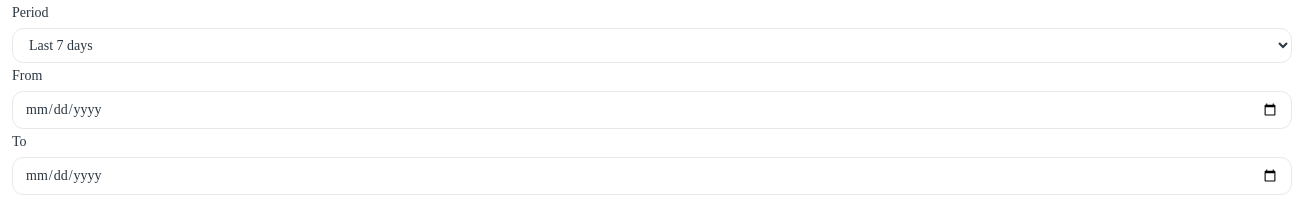
Test: DateRangeControls (V6 audit S1/S14) › S1: editing a date switches the mode to Custom, so Apply works in one step
expect the dropdown labelled "Period" shows "Last 7 days": met, box [12,28,1292,63]
Type "2026-03-01" into the date field labelled "From" at (652, 110), box [12,91,1292,129]
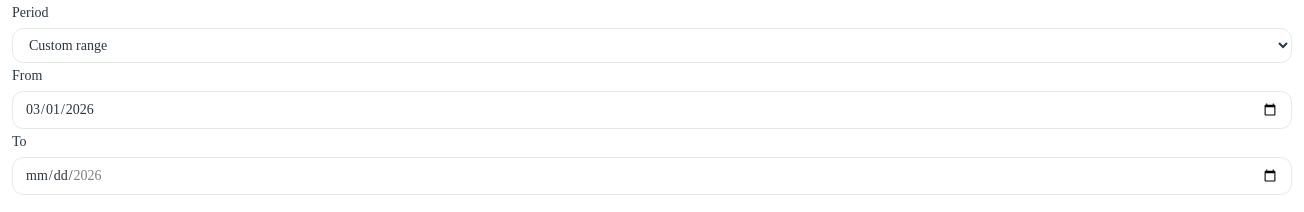
expect the dropdown labelled "Period" shows "Custom range": met, box [12,28,1292,63]
